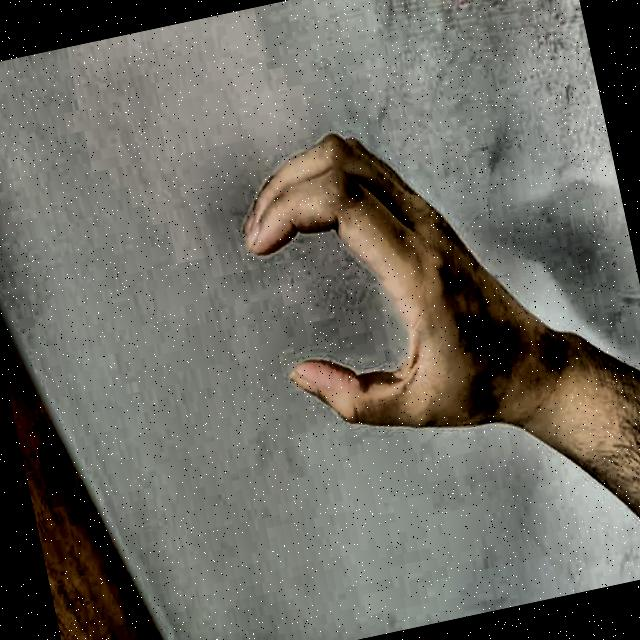A: (190, 79, 537, 518)
